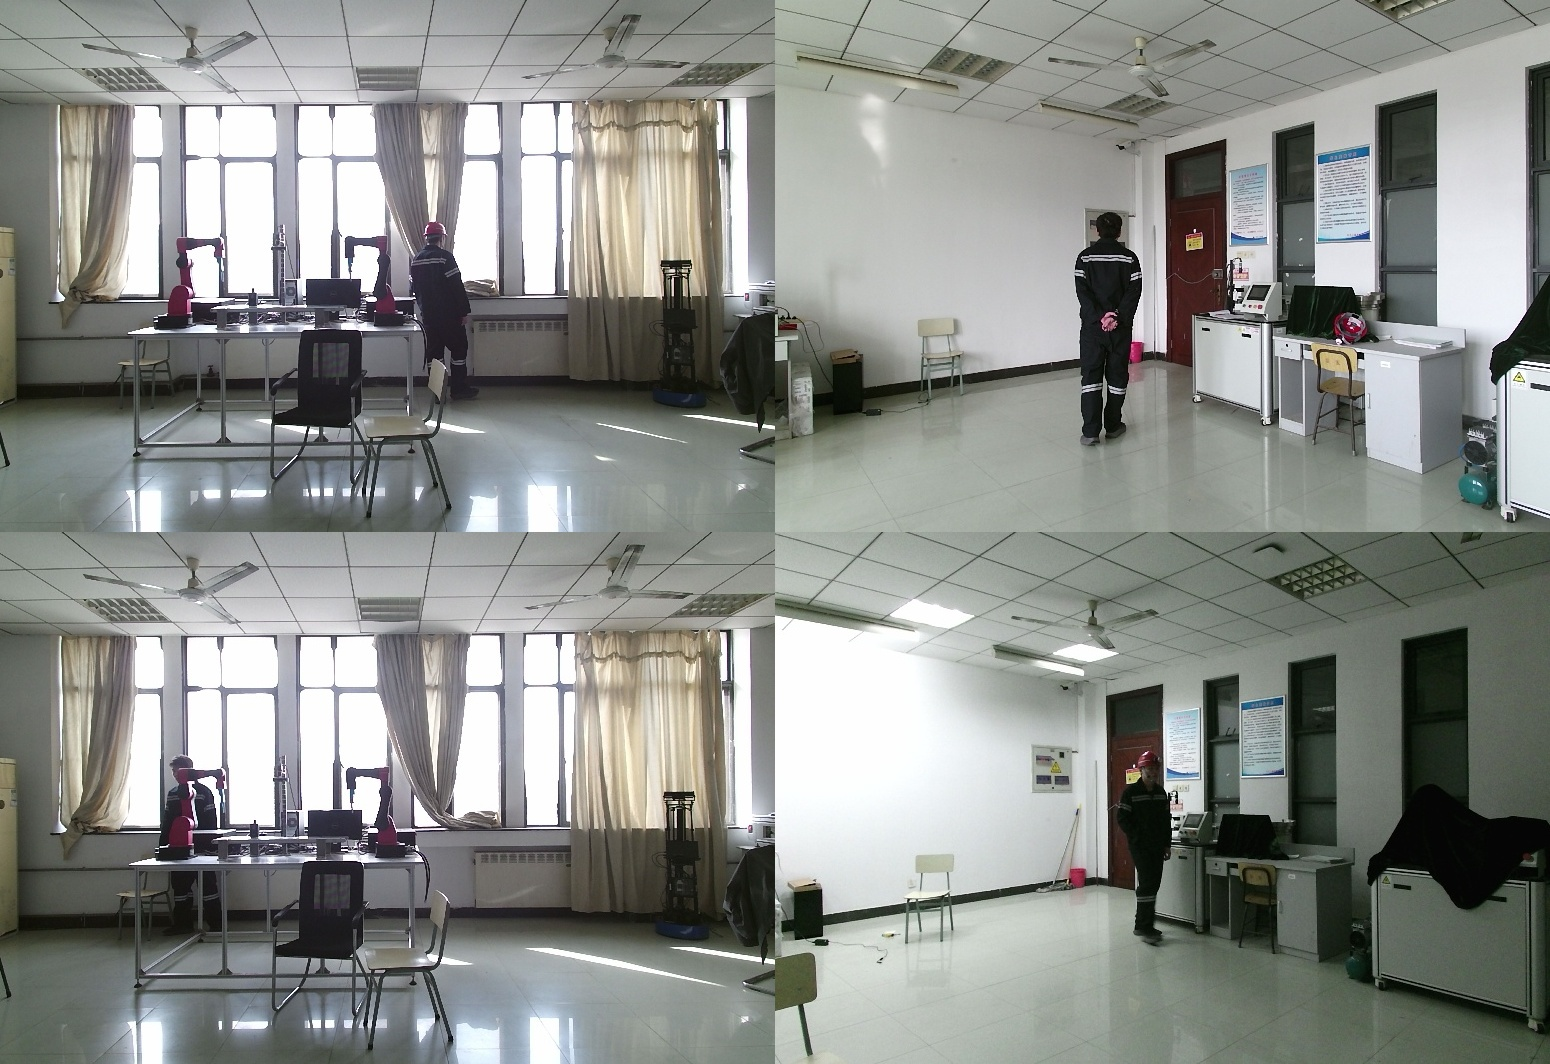person: (1064, 211, 1147, 448), (407, 223, 480, 407), (157, 755, 226, 943), (1111, 752, 1173, 951)
